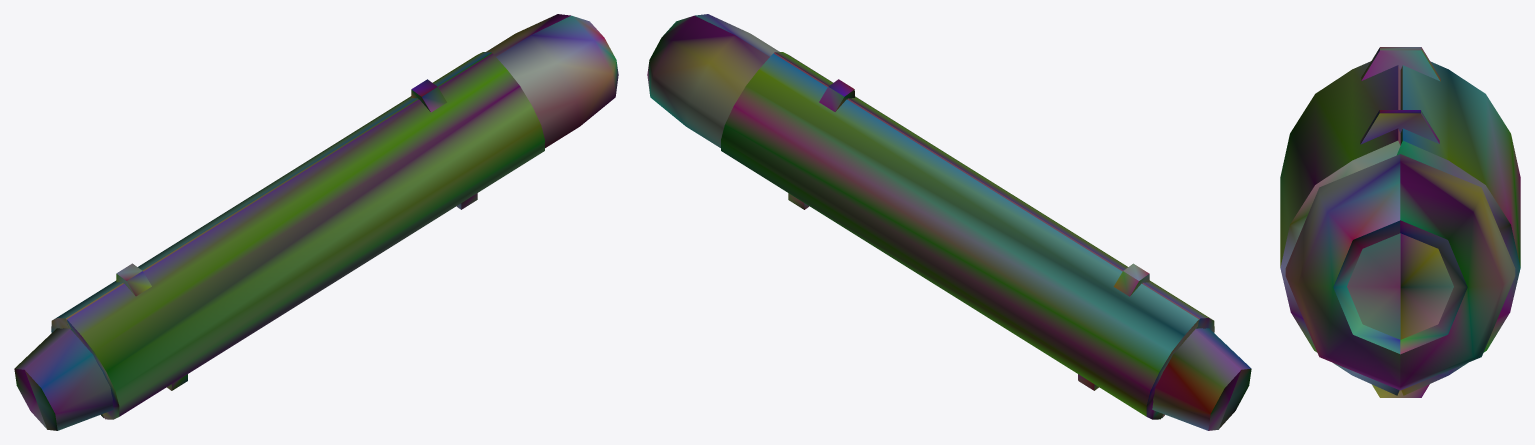
File: ASE_Firststage_Projectile.gltf
The picture shows the model from 3 angles, left to right: view 1: azimuth 30°, elevation 25°; view 2: azimuth 150°, elevation 25°; view 3: azimuth 270°, elevation 25°; orthographic projection. The views are drawn at different scales.
Visible parts, largest first — view 1: ASE_Firststage_Projectile; view 2: ASE_Firststage_Projectile; view 3: ASE_Firststage_Projectile.
Part boxes in pixels (x1,y1,x2,y2): ASE_Firststage_Projectile: (14, 14, 618, 430); ASE_Firststage_Projectile: (647, 14, 1251, 430); ASE_Firststage_Projectile: (1280, 47, 1520, 397).
Size of the model in its own units: 0.8553 by 0.4041 by 0.152.
